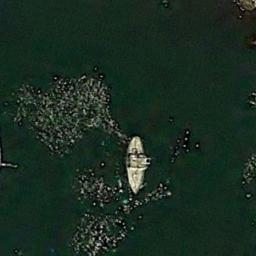boat: (122, 135, 150, 195)
